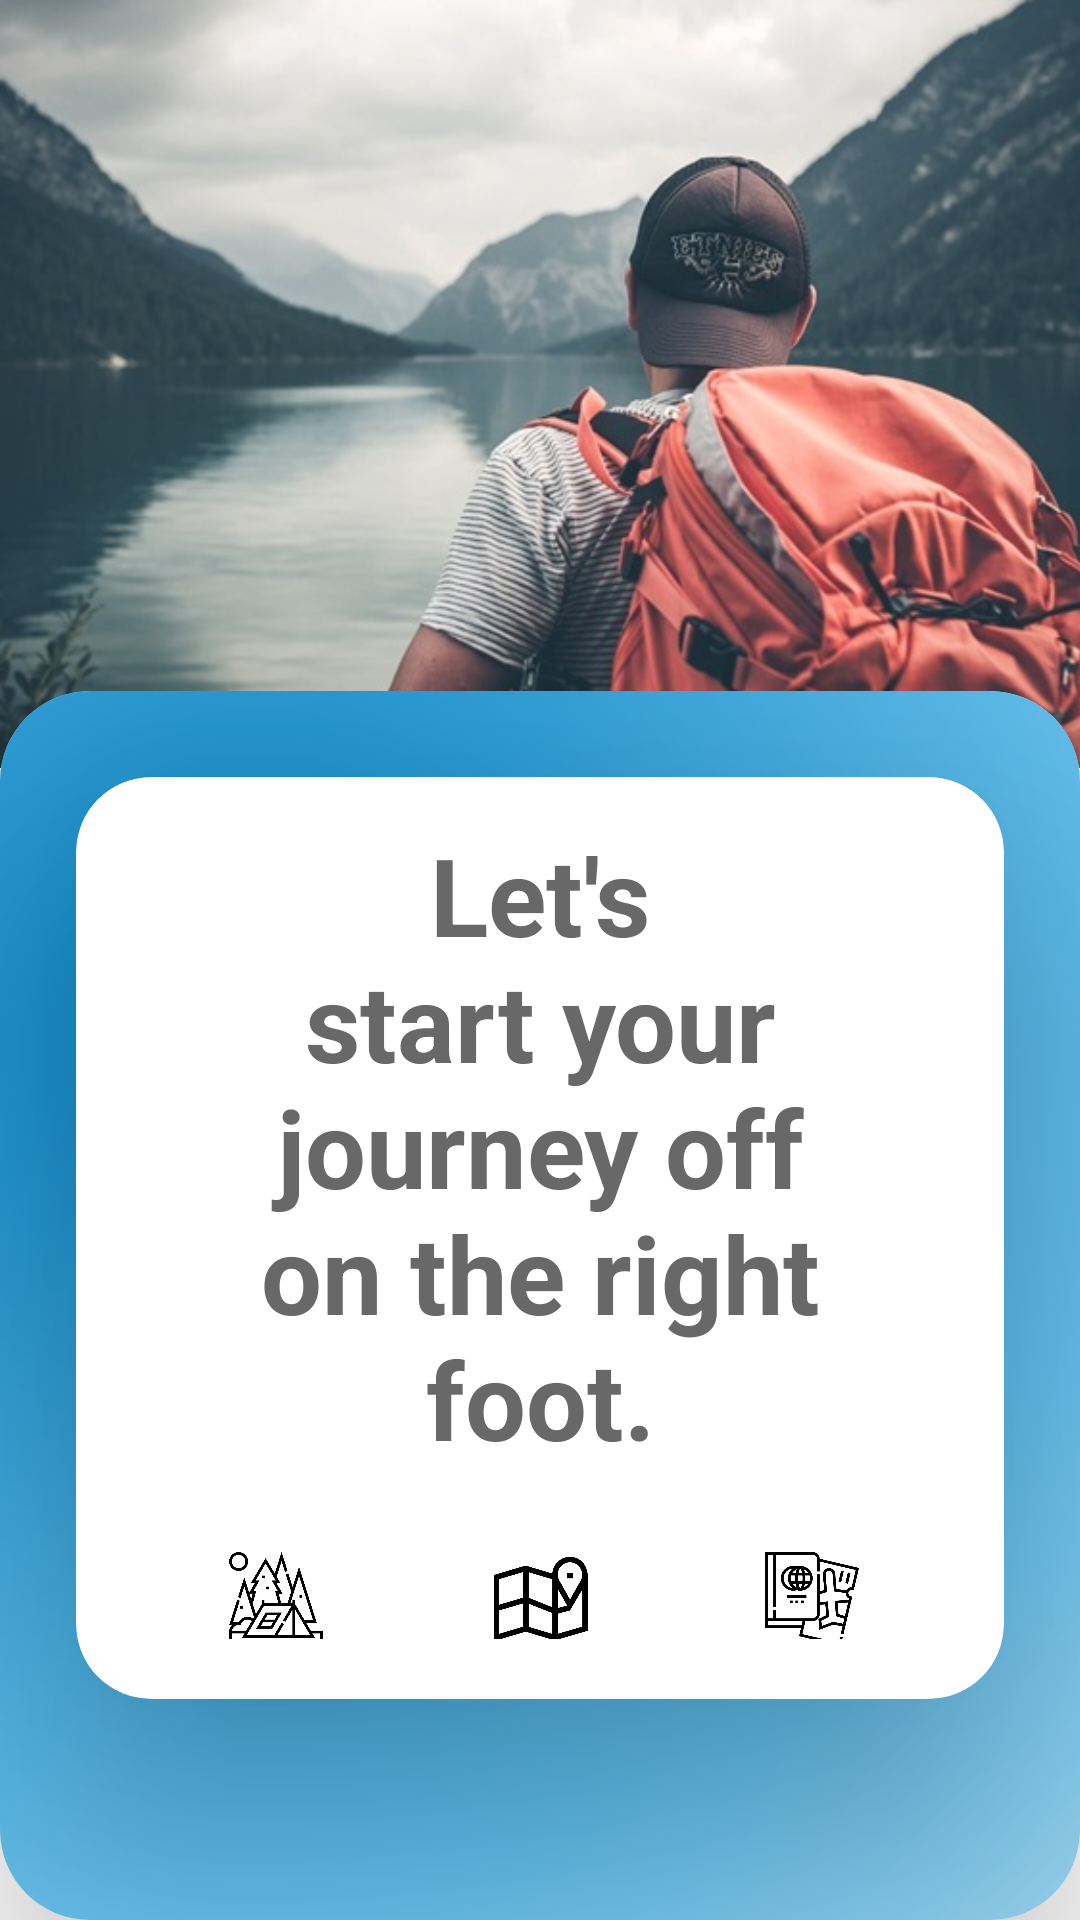

Locate icon controls on the screen. Image size 1080x1920, boxes as (x1,y1,x2,y2).
map: (494,1557,588,1639)
tent: (229,1552,323,1639)
